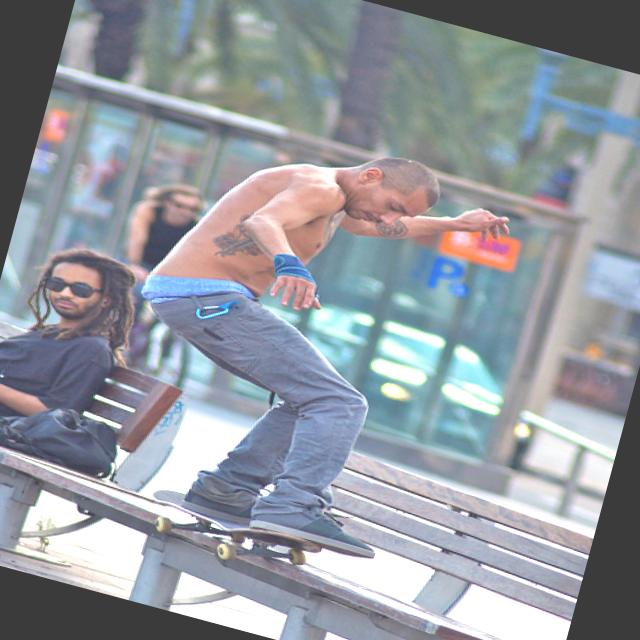Vehicle: (283, 300, 554, 473)
